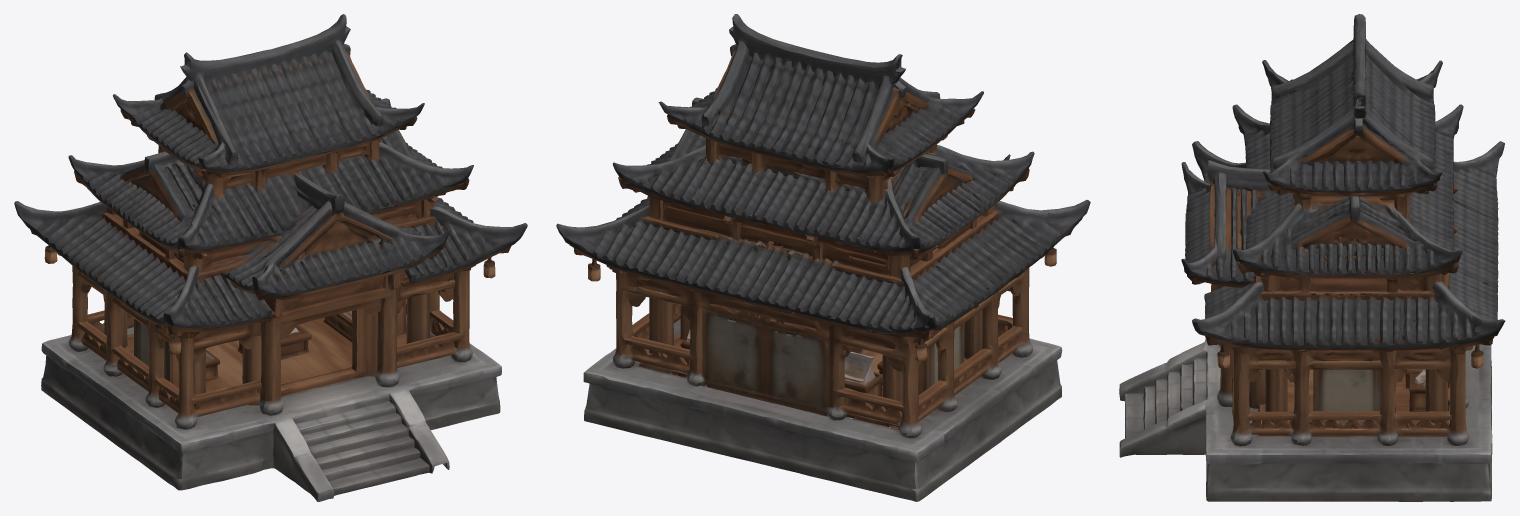
The model's file is museum.glb.
The picture shows the model from 3 angles, left to right: view 1: azimuth 30°, elevation 25°; view 2: azimuth 150°, elevation 25°; view 3: azimuth 270°, elevation 25°; orthographic projection. The views are drawn at different scales.
Visible parts, largest first — view 1: world; view 2: world; view 3: world.
Part boxes in pixels (left/top/right/bottom): world: left=14, top=14, right=527, bottom=501; world: left=556, top=14, right=1090, bottom=501; world: left=1119, top=14, right=1505, bottom=501.
Bounding box in the file's own units: 12 × 11.56 × 10.85.
Materials: 1 (1 with a texture image).
